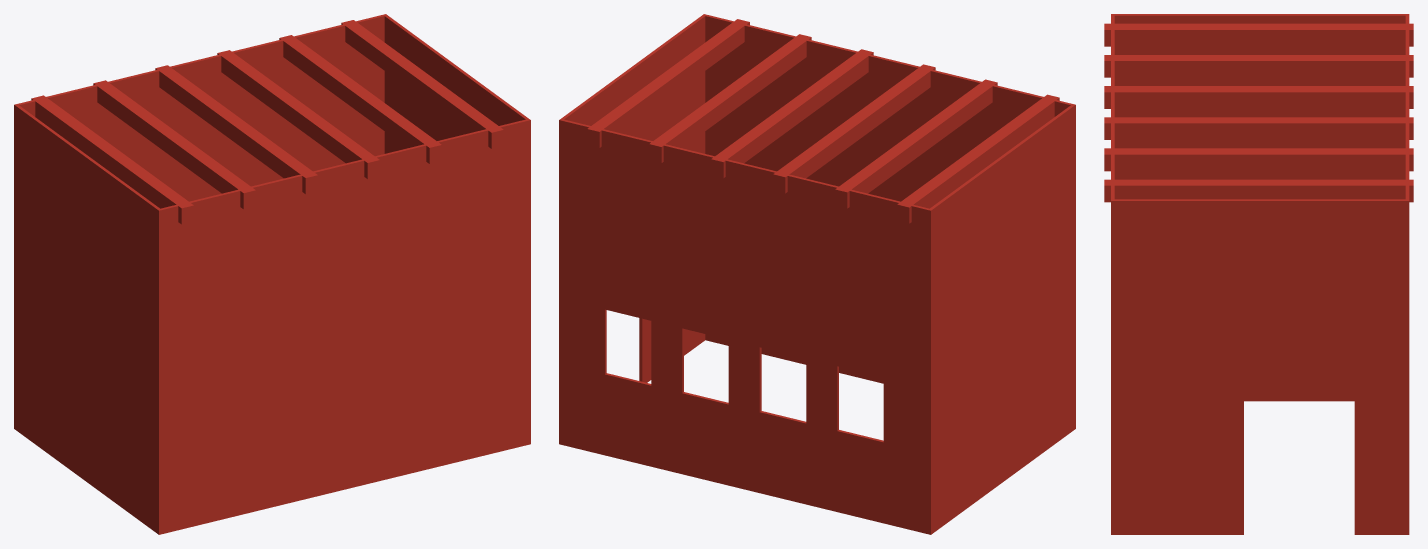
Rendered from lab.dae.
The picture shows the model from 3 angles, left to right: view 1: azimuth 30°, elevation 25°; view 2: azimuth 150°, elevation 25°; view 3: azimuth 270°, elevation 25°; orthographic projection. The views are drawn at different scales.
Visible parts, largest first — view 1: Body1_Paint_-_Enamel_Glossy_(Red); view 2: Body1_Paint_-_Enamel_Glossy_(Red); view 3: Body1_Paint_-_Enamel_Glossy_(Red).
Part boxes in pixels (x1,y1,x2,y2): Body1_Paint_-_Enamel_Glossy_(Red): [14, 14, 530, 534]; Body1_Paint_-_Enamel_Glossy_(Red): [559, 14, 1075, 534]; Body1_Paint_-_Enamel_Glossy_(Red): [1104, 14, 1413, 534].
Bounding box in the file's own units: 12 × 8.4 × 10.
